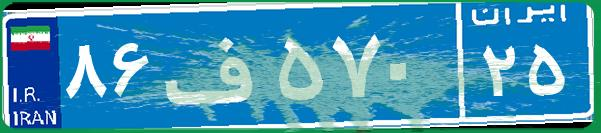0: (385, 28, 445, 110)
2: (475, 38, 525, 113)
5: (273, 28, 330, 110), (525, 38, 570, 115)
6: (110, 28, 158, 105)
7: (330, 28, 385, 110)
8: (57, 26, 110, 107)
ف: (158, 15, 273, 115)
